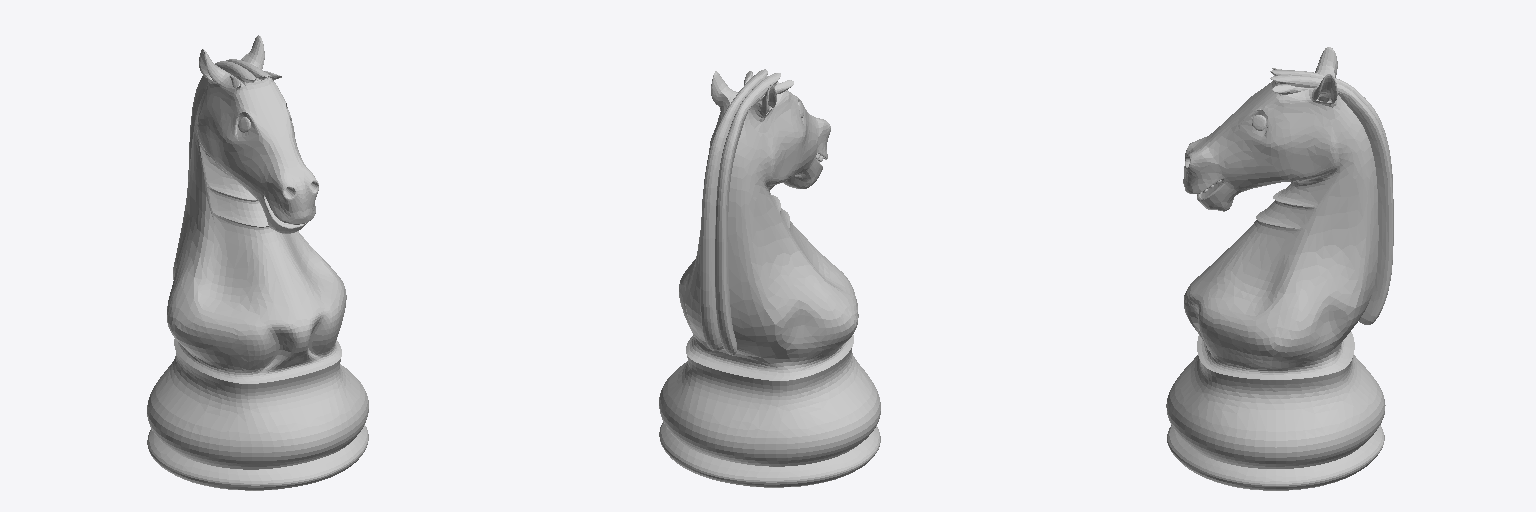
The model's file is knight.obj.
3 views of the same model, side by side, from view 1: azimuth 30°, elevation 25°; view 2: azimuth 150°, elevation 25°; view 3: azimuth 270°, elevation 25° (orthographic).
Visible parts, largest first — view 1: knight; view 2: knight; view 3: knight.
Boxes of the visible parts, <box> form: knight: <box>147,35,368,490</box>; knight: <box>659,69,880,487</box>; knight: <box>1166,47,1393,490</box>.
Size of the model in its own units: 1.14 by 2.18 by 1.15.